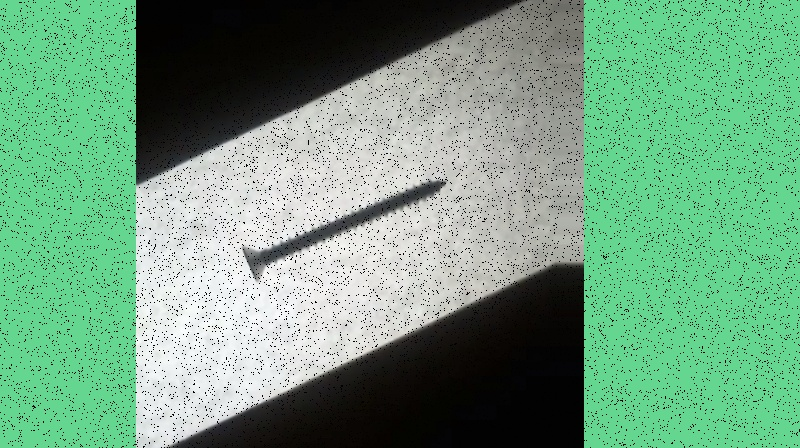S002: (238, 176, 448, 286)
